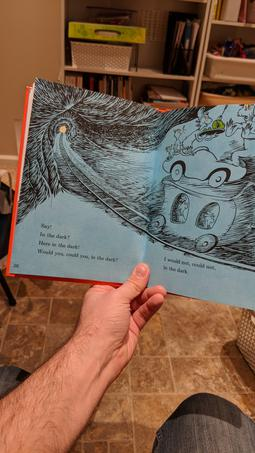text block: (33, 216, 118, 265), (156, 254, 221, 277)
